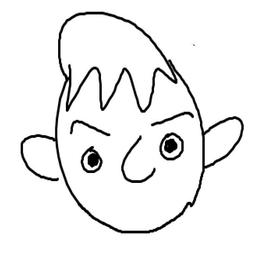ear: (201, 110, 246, 171), (16, 130, 64, 186)
eye: (157, 130, 184, 162), (78, 146, 106, 175)
frowning_eyebrow: (65, 118, 112, 138), (148, 109, 195, 125)
large_nose: (118, 134, 156, 187)
